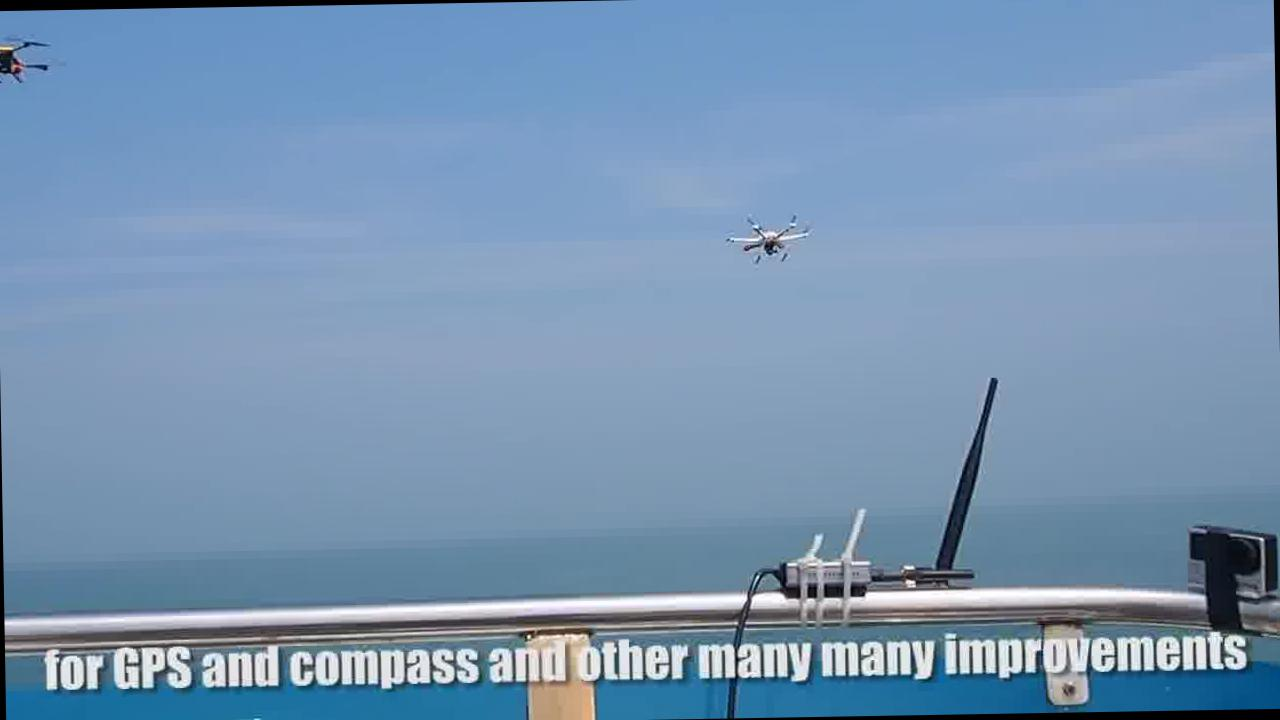drone: (724, 207, 814, 262)
